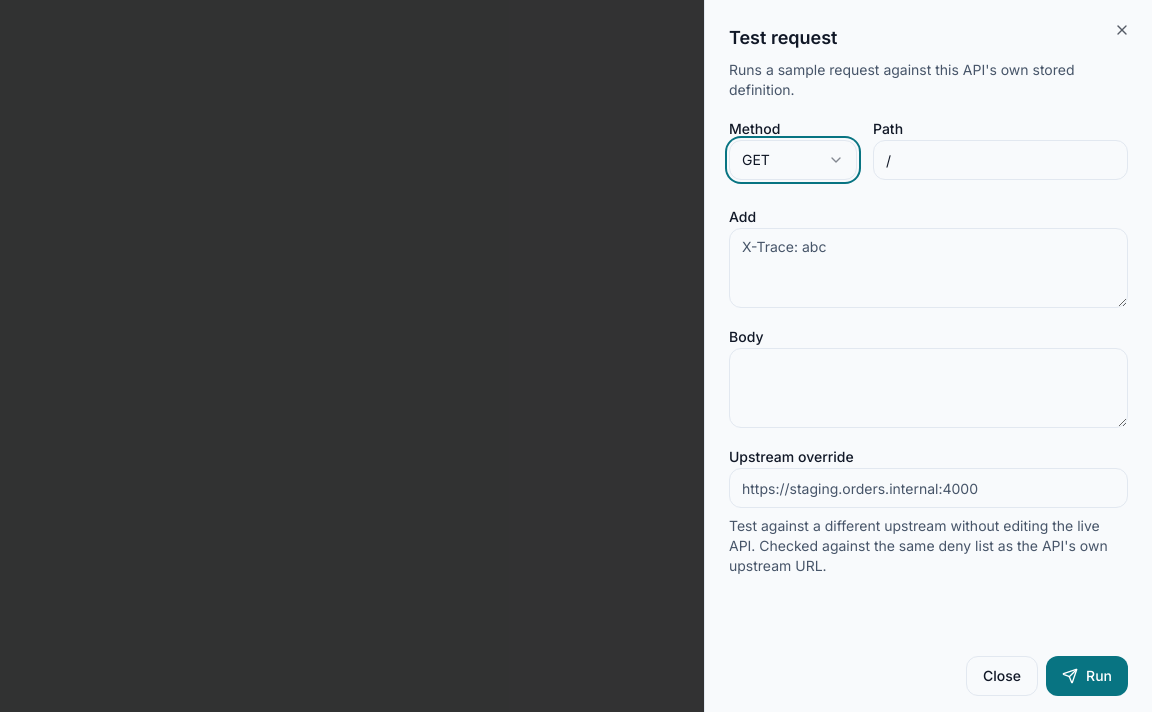
Test: TestRequestSheet › runs the request and shows the response code
Step 1. Replace the text in the field labelled "Path" with "/users/42" → (1000, 160), box [873,140,1128,180]
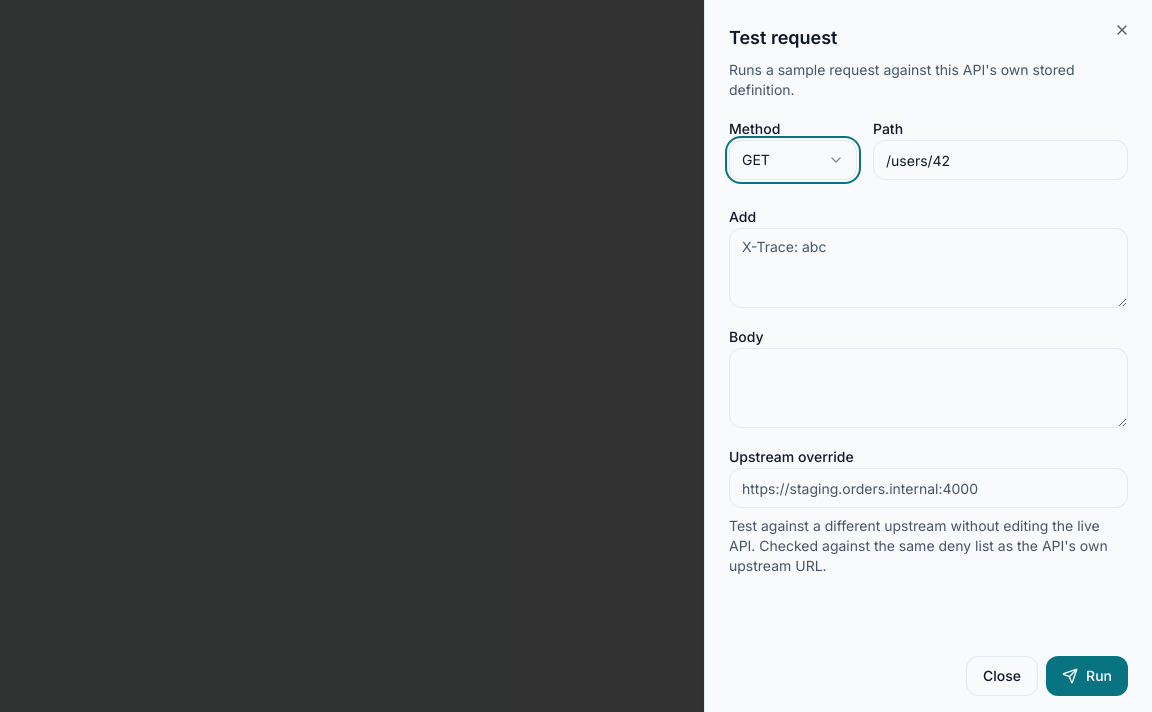
Step 2. Click the button "Run" → (1087, 676), box [1046,656,1128,696]
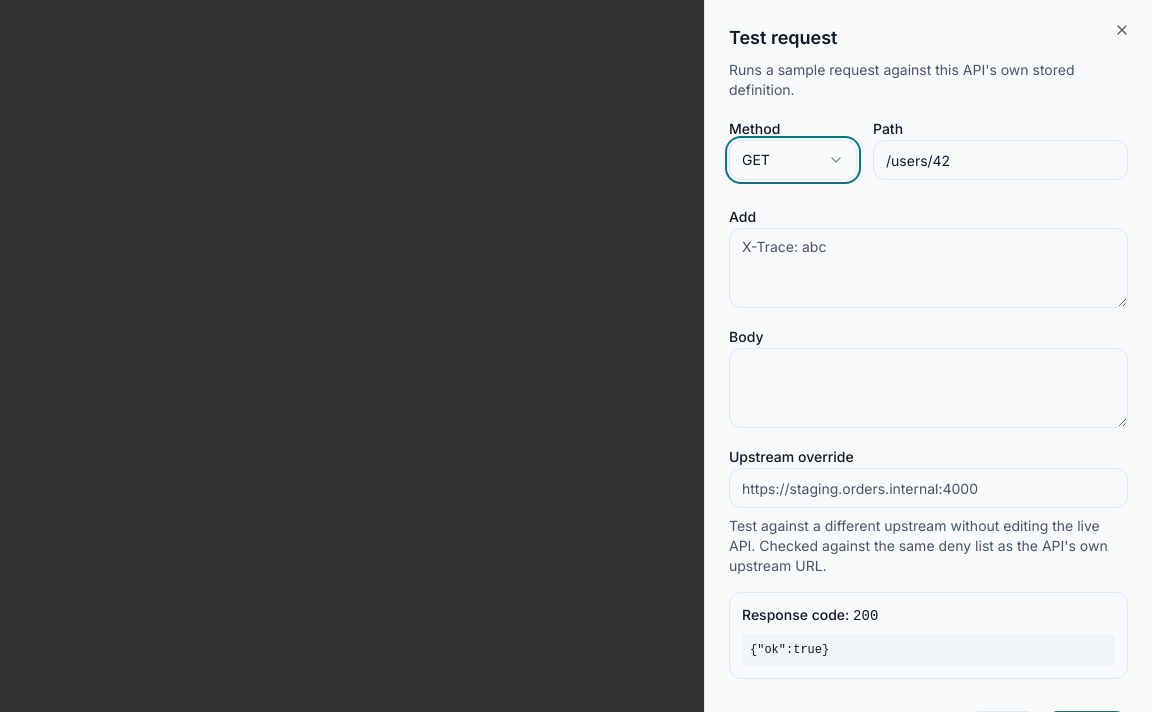
expect the text "200" is shown: met, box [853,608,878,624]
